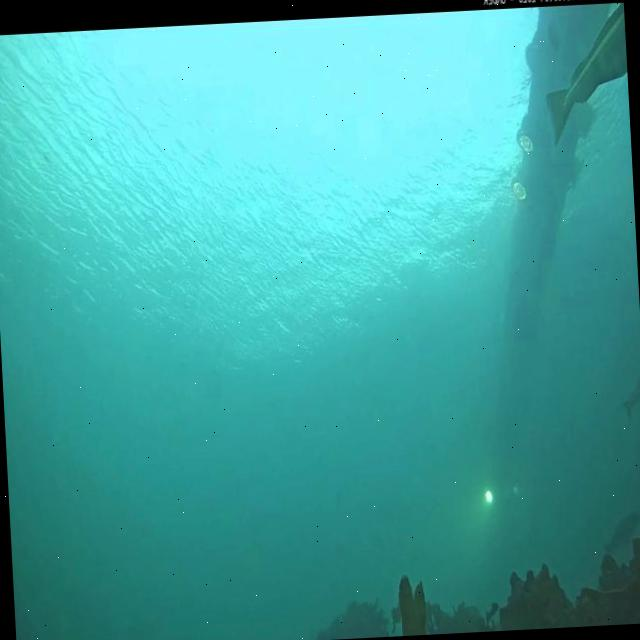fish: (540, 4, 630, 142), (602, 511, 640, 557), (621, 373, 640, 422)
